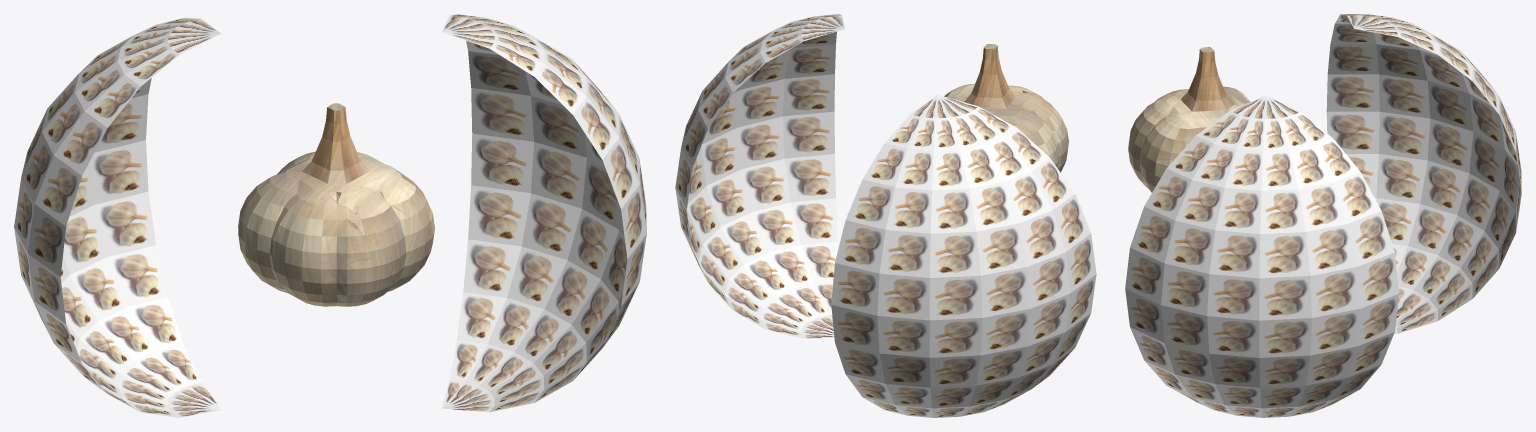
File: garlic.fbx
3 views of the same model, side by side, from view 1: azimuth 30°, elevation 25°; view 2: azimuth 150°, elevation 25°; view 3: azimuth 270°, elevation 25° (orthographic). The views are drawn at different scales.
Parts seen in each view (by area): view 1: garlic; view 2: garlic; view 3: garlic.
Boxes of the visible parts, box(x1,y1,x2,y2) form: garlic: box(14, 14, 646, 417); garlic: box(675, 14, 1096, 417); garlic: box(1125, 14, 1521, 417).
Size of the model in its own units: 646 by 443 by 518.
